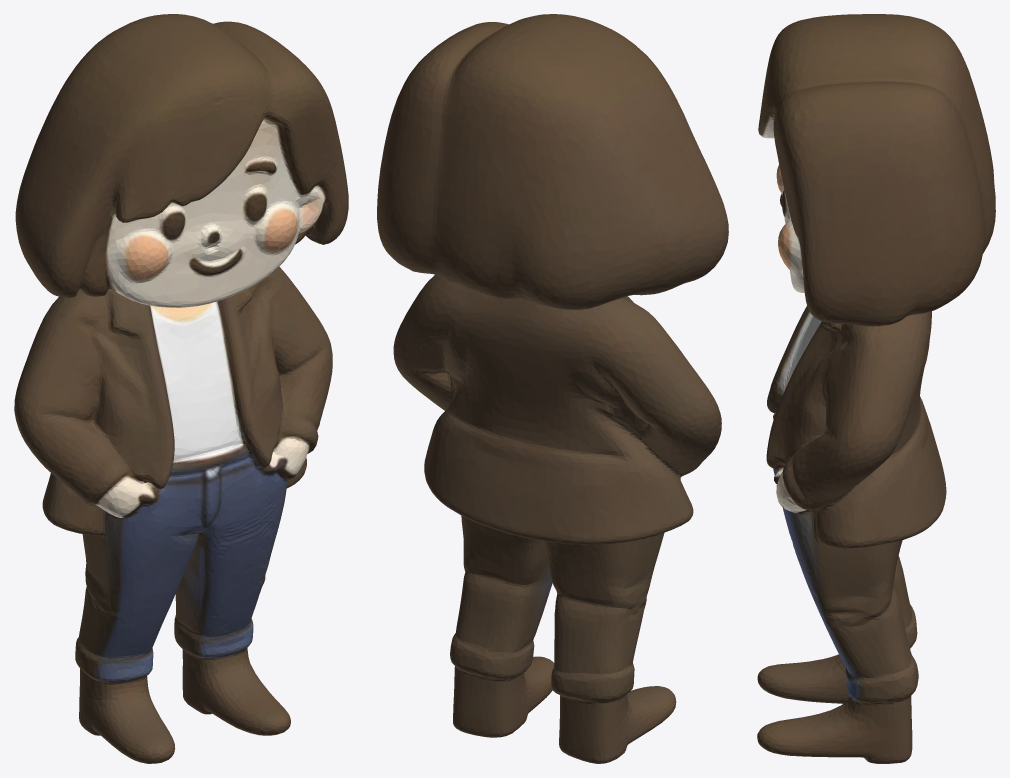
File: huiwen-2025.glb
3 renders of one model, left to right at view 1: azimuth 30°, elevation 25°; view 2: azimuth 150°, elevation 25°; view 3: azimuth 270°, elevation 25°, orthographic. The views are drawn at different scales.
Parts seen in each view (by area): view 1: tmp1h_nhl_f.ply; view 2: tmp1h_nhl_f.ply; view 3: tmp1h_nhl_f.ply.
Part boxes in pixels (x1,y1,x2,y2): tmp1h_nhl_f.ply: [14, 14, 348, 763]; tmp1h_nhl_f.ply: [377, 14, 728, 763]; tmp1h_nhl_f.ply: [757, 14, 995, 763].
Size of the model in its own units: 1.43 by 3 by 0.92.
Materials: 1 (1 with a texture image).
